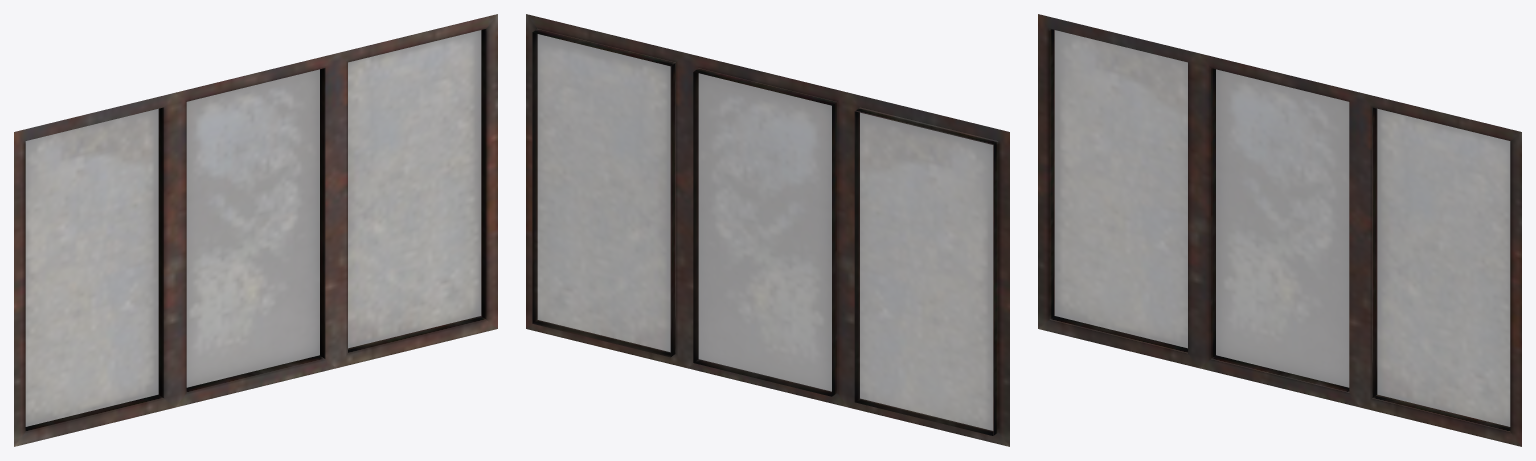
File: T_Window_01.FBX
3 renders of one model, left to right at view 1: azimuth 30°, elevation 25°; view 2: azimuth 150°, elevation 25°; view 3: azimuth 330°, elevation 25°, orthographic.
Visible parts, largest first — view 1: T_Window_01; view 2: T_Window_01; view 3: T_Window_01.
Part boxes in pixels (left/top/right/bottom): T_Window_01: left=14, top=14, right=497, bottom=446; T_Window_01: left=526, top=14, right=1009, bottom=446; T_Window_01: left=1038, top=14, right=1521, bottom=446.
Bounding box in the file's own units: 264 × 164 × 5.
